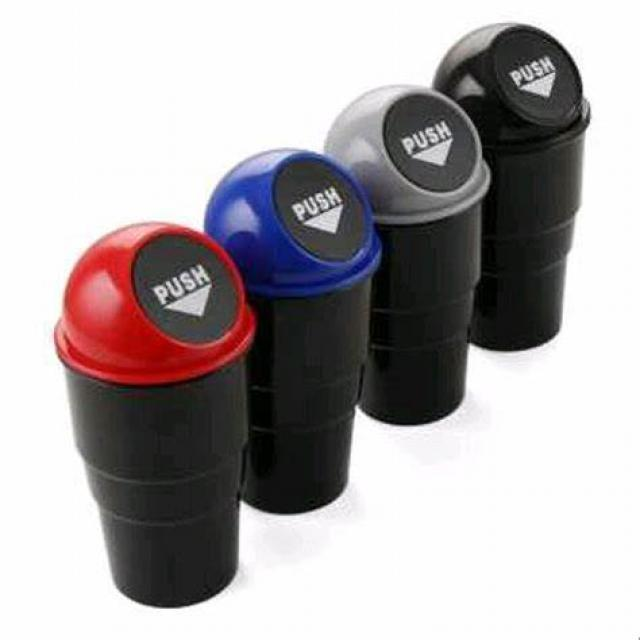garbage container: (46, 226, 259, 613), (215, 141, 383, 546), (432, 13, 602, 358), (332, 77, 484, 436)
